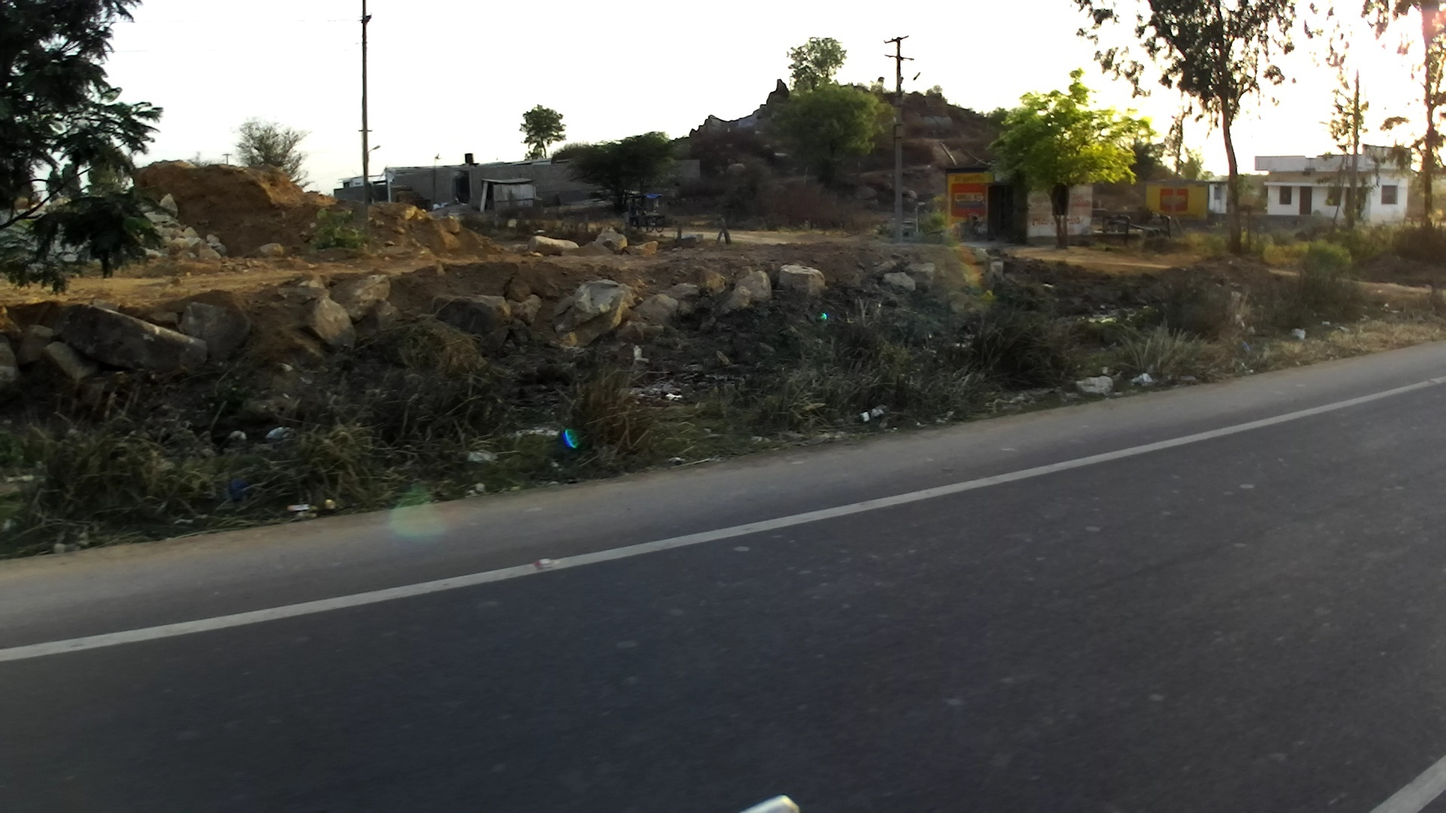person: (624, 199, 644, 234)
vehicle fallback: (624, 186, 670, 239)
